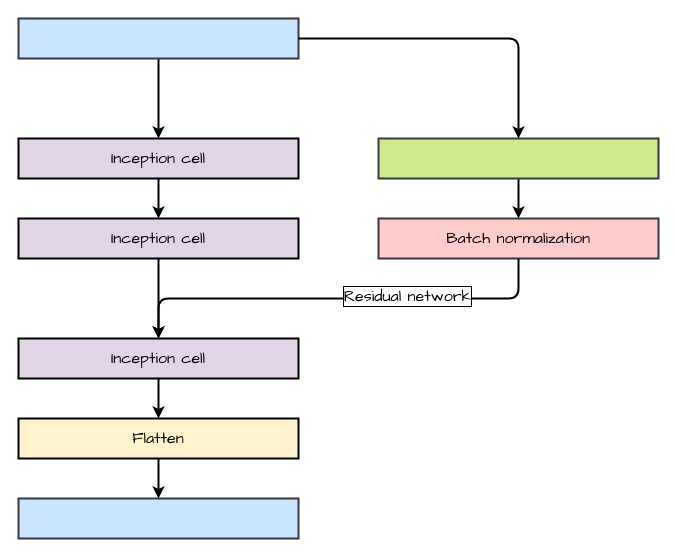
This 676x556 diagram has some shape labels left out. The centre of each missing label's shape, as x and y in pixels:
"Convolution" goes at (x=518, y=158).
"Input" goes at (x=158, y=38).
"Output" goes at (x=158, y=518).
